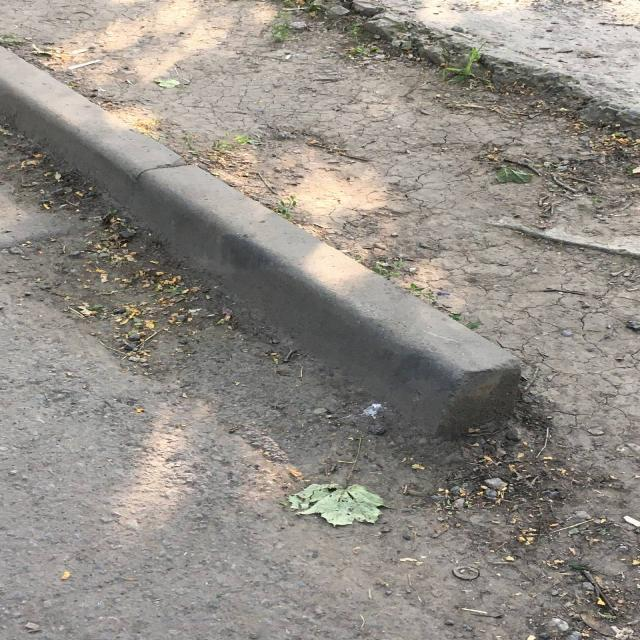bump: (168, 212, 522, 438), (22, 92, 234, 258)
